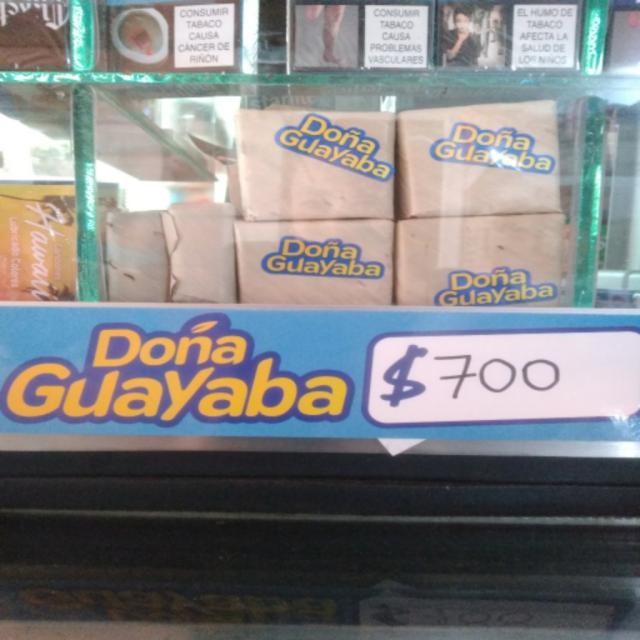Guayaba_lonja: (405, 101, 565, 219), (236, 110, 396, 221), (394, 216, 570, 305), (235, 220, 398, 308)
Precio: (361, 331, 640, 435)
